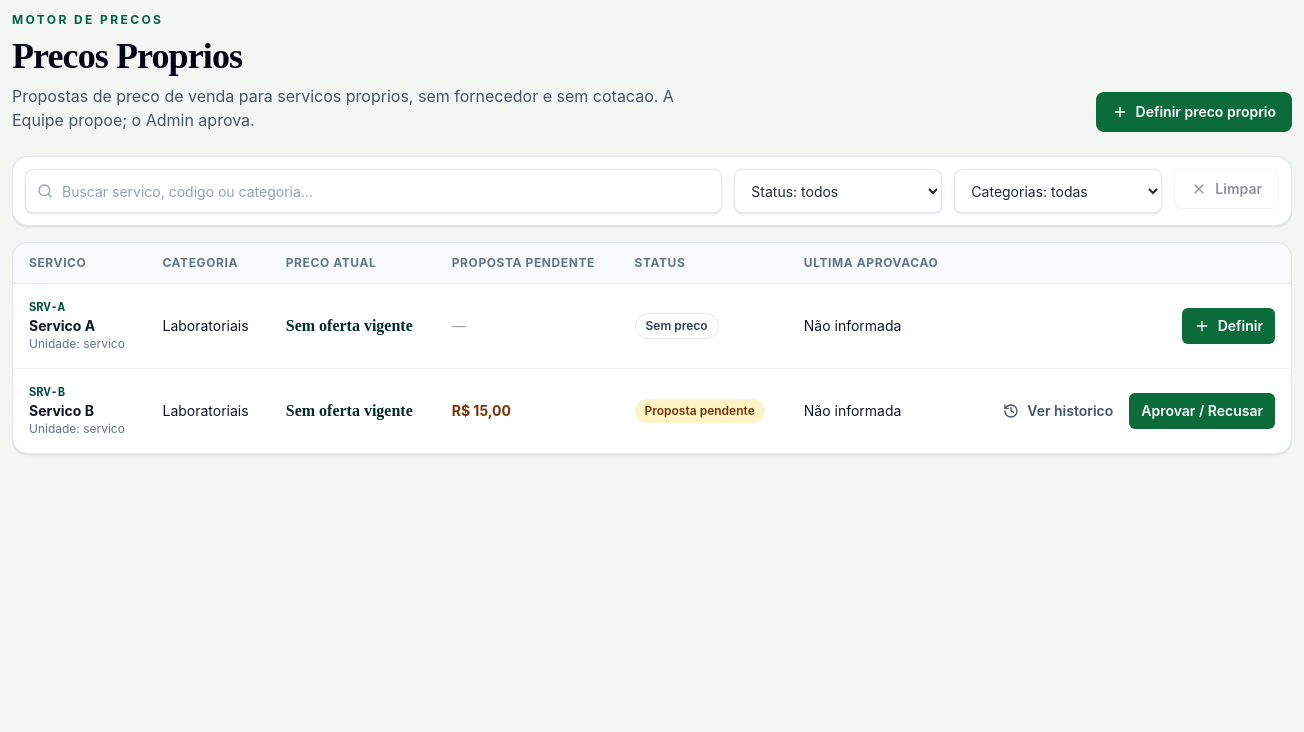
Test: OwnPricesPage › filtros por status e busca vazia
In the field with placeholder "Buscar servico, codigo ou categoria...": [374, 191] box [25,169,722,213], type "nao-existe"
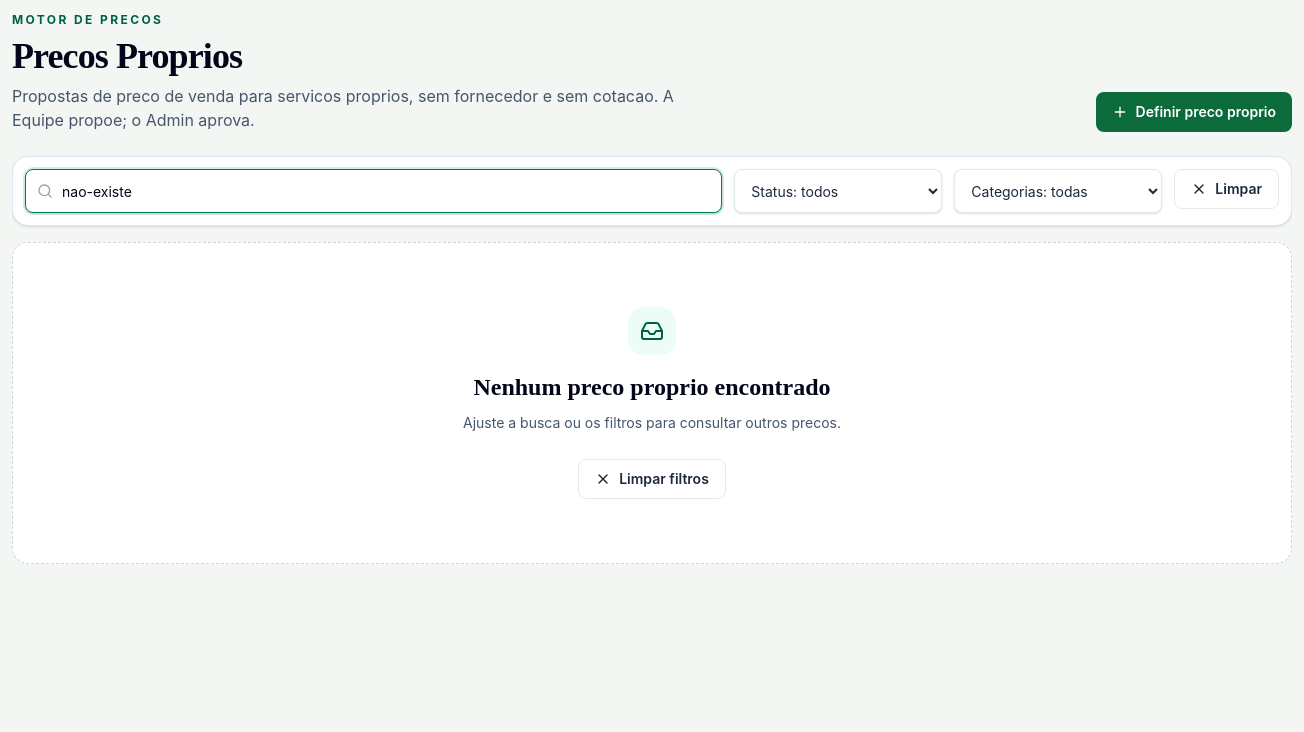
Check: the heading "Nenhum preco proprio encontrado" is shown, box [473,374,830,400]
Click the button with aria-label "Limpar filtros": [1227, 189] box [1174,169,1279,209]
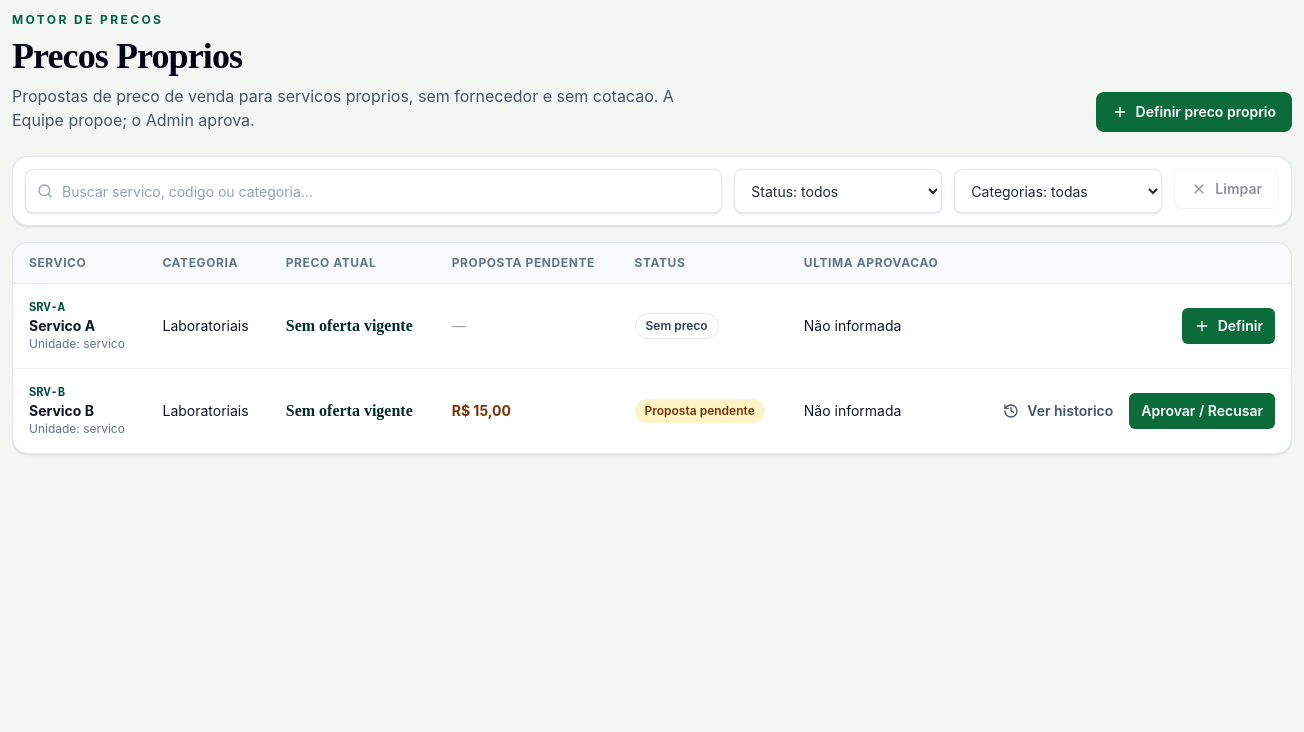
Check: the table named "Precos Proprios" is shown, box [13,243,1291,453]
Select "Preco aprovado" in the 1st dropdown named "Filtrar precos proprios por status": [838, 191] box [734,169,942,213]
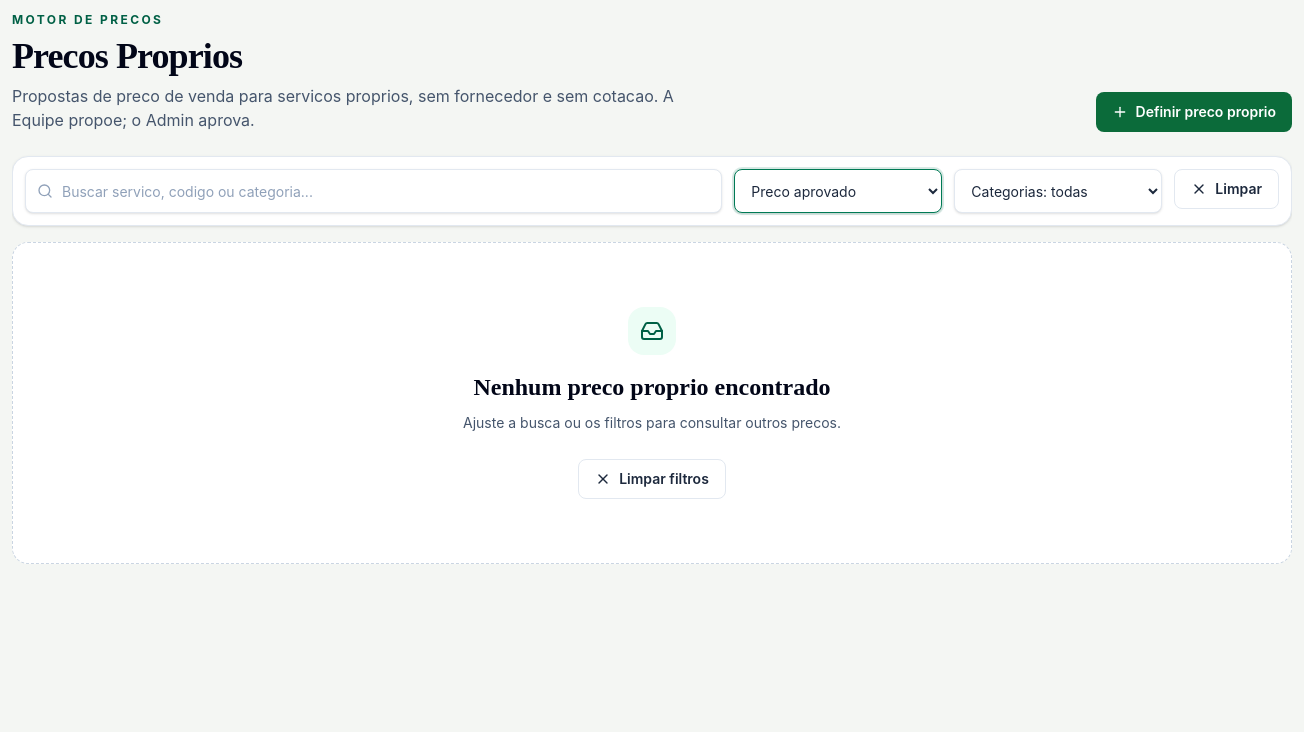
Check: the heading "Nenhum preco proprio encontrado" is shown, box [473,374,830,400]
Select "Proposta pendente" in the 1st dropdown named "Filtrar precos proprios por status": [838, 191] box [734,169,942,213]
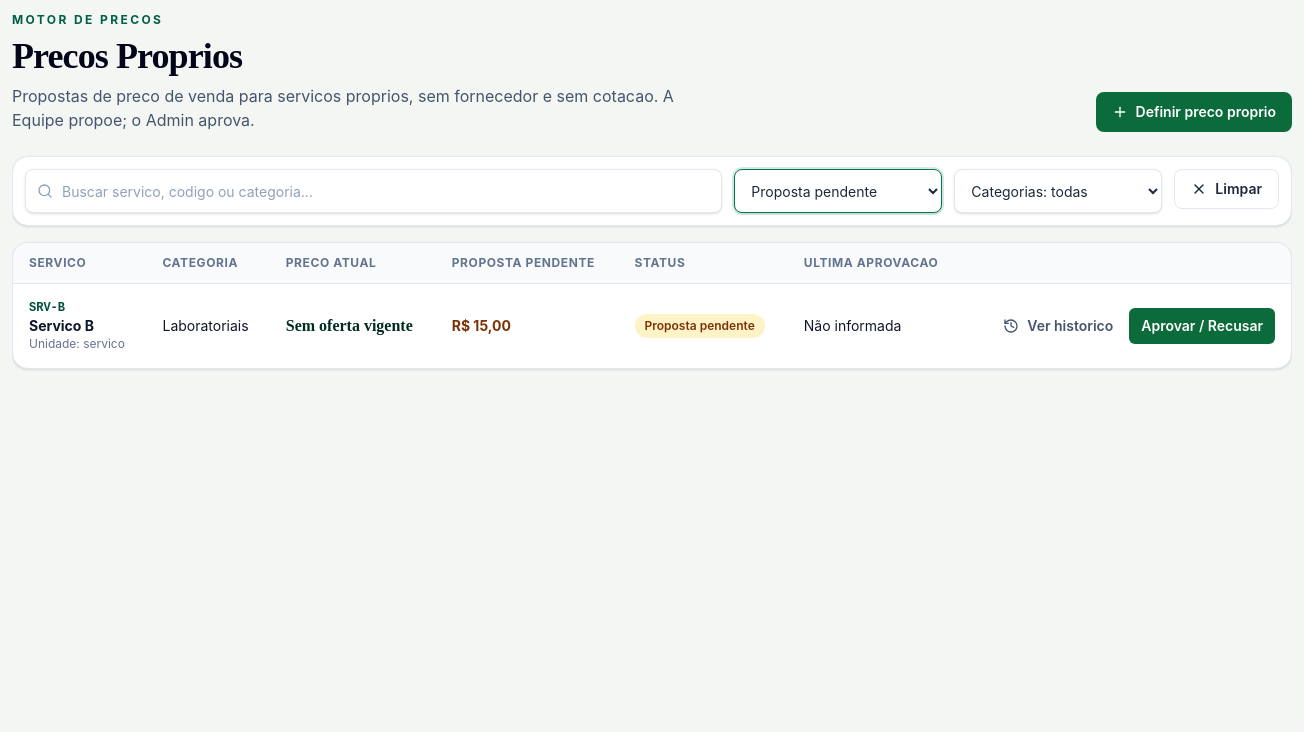
Check: the table named "Precos Proprios" is shown, box [13,243,1291,368]
